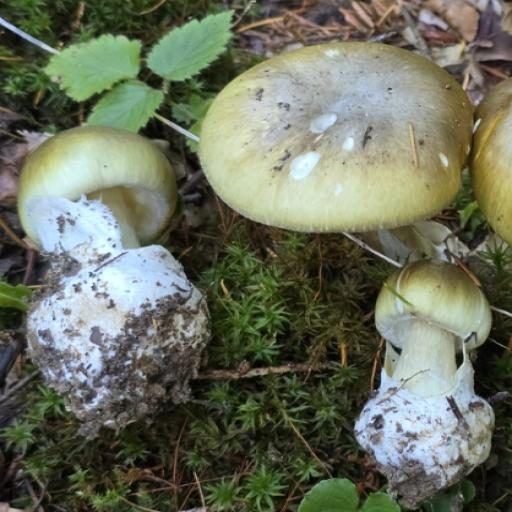Death Cap: (13, 120, 218, 435), (198, 38, 511, 235), (360, 260, 512, 492)
